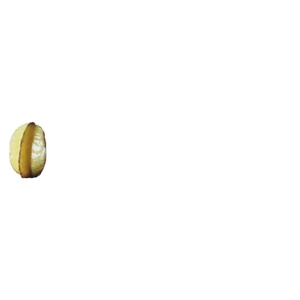carambola: (10, 123, 47, 179)
